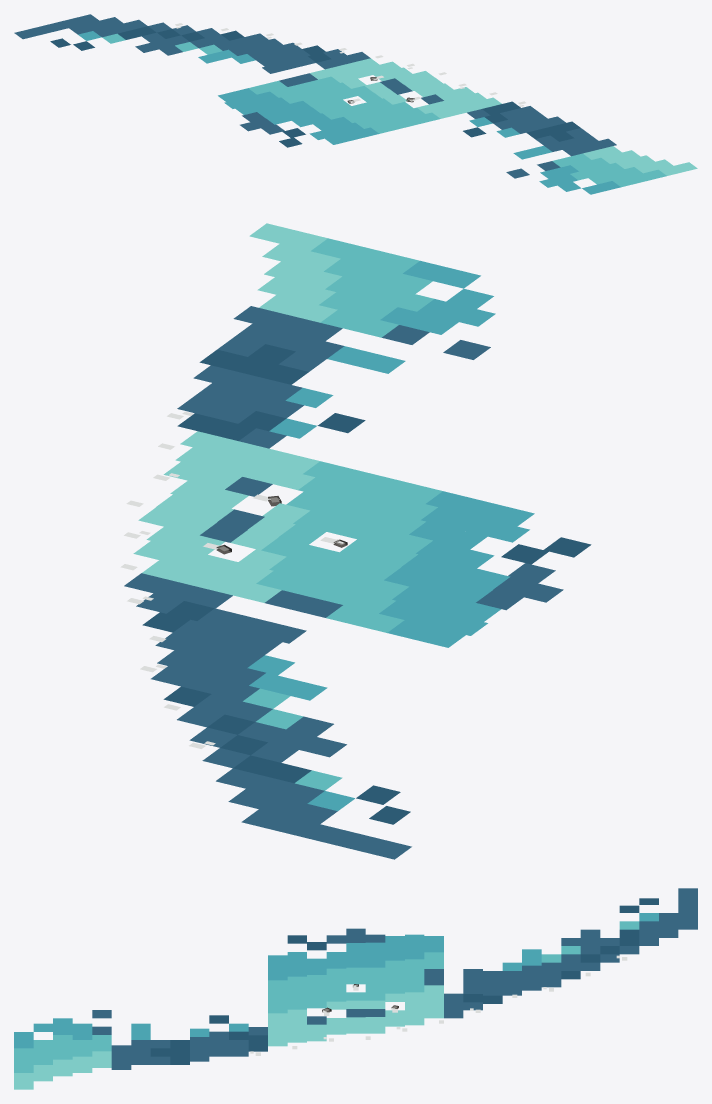
Rendered from nw_sw_boca.glb.
3 renders of one model, top to bottom at view 1: azimuth 30°, elevation 25°; view 2: azimuth 150°, elevation 25°; view 3: azimuth 270°, elevation 25°, orthographic. The views are drawn at different scales.
Parts seen in each view (by area): view 1: nw_sw_boca_lod0; view 2: nw_sw_boca_lod0; view 3: nw_sw_boca_lod0.
Boxes of the visible parts, bbox=[...] form: nw_sw_boca_lod0: bbox=[14, 14, 697, 194]; nw_sw_boca_lod0: bbox=[120, 223, 591, 859]; nw_sw_boca_lod0: bbox=[14, 888, 697, 1089].
Size of what is drawn, in the model's own units: 97.5 by 0.48 by 140.
